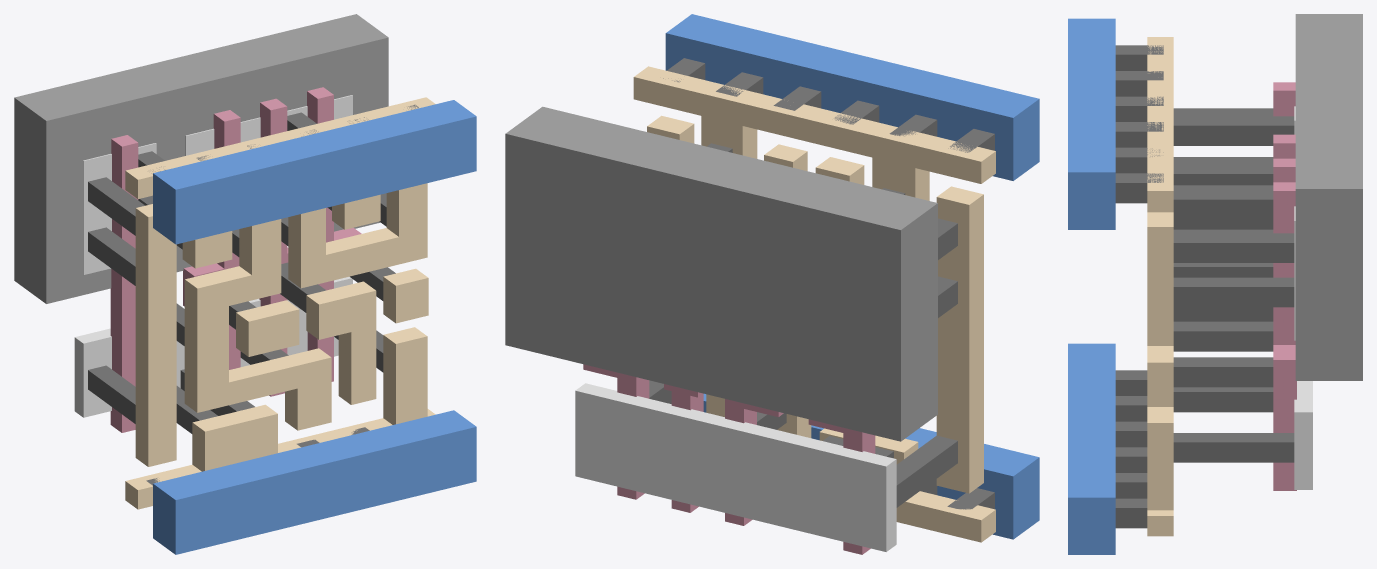
The model's file is sky130_fd_sc_hd__a21o_1.gds.gltf.
The picture shows the model from 3 angles, left to right: view 1: azimuth 30°, elevation 25°; view 2: azimuth 150°, elevation 25°; view 3: azimuth 270°, elevation 25°; orthographic projection. The views are drawn at different scales.
Visible parts, largest first — view 1: sky130_fd_sc_hd__a21o_1_li1, sky130_fd_sc_hd__a21o_1_met1, sky130_fd_sc_hd__a21o_1_nwell, sky130_fd_sc_hd__a21o_1_licon, sky130_fd_sc_hd__a21o_1_poly, sky130_fd_sc_hd__a21o_1_diff; view 2: sky130_fd_sc_hd__a21o_1_nwell, sky130_fd_sc_hd__a21o_1_li1, sky130_fd_sc_hd__a21o_1_diff, sky130_fd_sc_hd__a21o_1_met1, sky130_fd_sc_hd__a21o_1_licon, sky130_fd_sc_hd__a21o_1_mcon, sky130_fd_sc_hd__a21o_1_poly; view 3: sky130_fd_sc_hd__a21o_1_licon, sky130_fd_sc_hd__a21o_1_nwell, sky130_fd_sc_hd__a21o_1_met1, sky130_fd_sc_hd__a21o_1_li1, sky130_fd_sc_hd__a21o_1_mcon, sky130_fd_sc_hd__a21o_1_poly, sky130_fd_sc_hd__a21o_1_diff.
Boxes of the visible parts, x1,y1,x2,y2 form: sky130_fd_sc_hd__a21o_1_li1: (125,97,435,509); sky130_fd_sc_hd__a21o_1_met1: (153,100,476,554); sky130_fd_sc_hd__a21o_1_nwell: (14,14,388,303); sky130_fd_sc_hd__a21o_1_licon: (88,112,395,433); sky130_fd_sc_hd__a21o_1_poly: (110,87,361,432); sky130_fd_sc_hd__a21o_1_diff: (74,95,352,417); sky130_fd_sc_hd__a21o_1_nwell: (505,106,937,441); sky130_fd_sc_hd__a21o_1_li1: (633,66,995,542); sky130_fd_sc_hd__a21o_1_diff: (575,383,896,551); sky130_fd_sc_hd__a21o_1_met1: (665,14,1039,539); sky130_fd_sc_hd__a21o_1_licon: (649,143,957,507); sky130_fd_sc_hd__a21o_1_mcon: (663,58,994,509); sky130_fd_sc_hd__a21o_1_poly: (583,364,875,554); sky130_fd_sc_hd__a21o_1_licon: (1173,108,1294,462); sky130_fd_sc_hd__a21o_1_nwell: (1295,14,1362,380); sky130_fd_sc_hd__a21o_1_met1: (1068,18,1115,554); sky130_fd_sc_hd__a21o_1_li1: (1147,37,1173,536); sky130_fd_sc_hd__a21o_1_mcon: (1115,45,1163,528); sky130_fd_sc_hd__a21o_1_poly: (1273,82,1296,490); sky130_fd_sc_hd__a21o_1_diff: (1294,106,1312,489).
Size of the model in its own units: 3.14 by 3.2 by 2.24.
